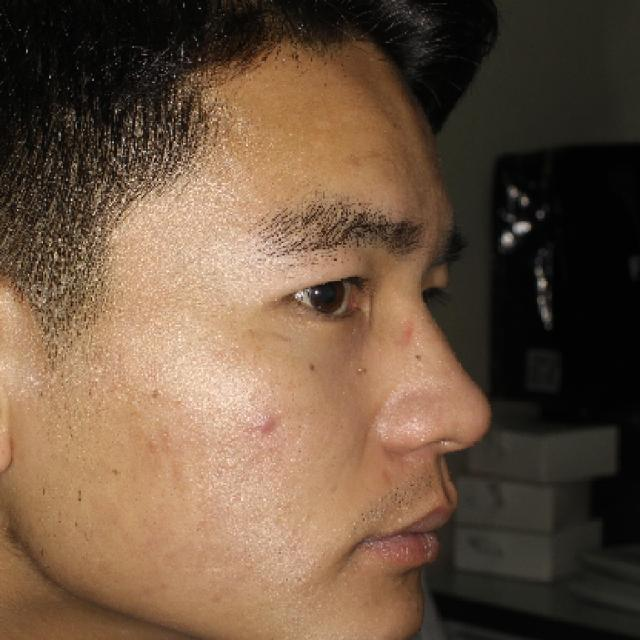Acne: (252, 415, 286, 447)
Blackheads: (142, 378, 170, 408), (299, 351, 326, 380), (405, 344, 432, 370)
